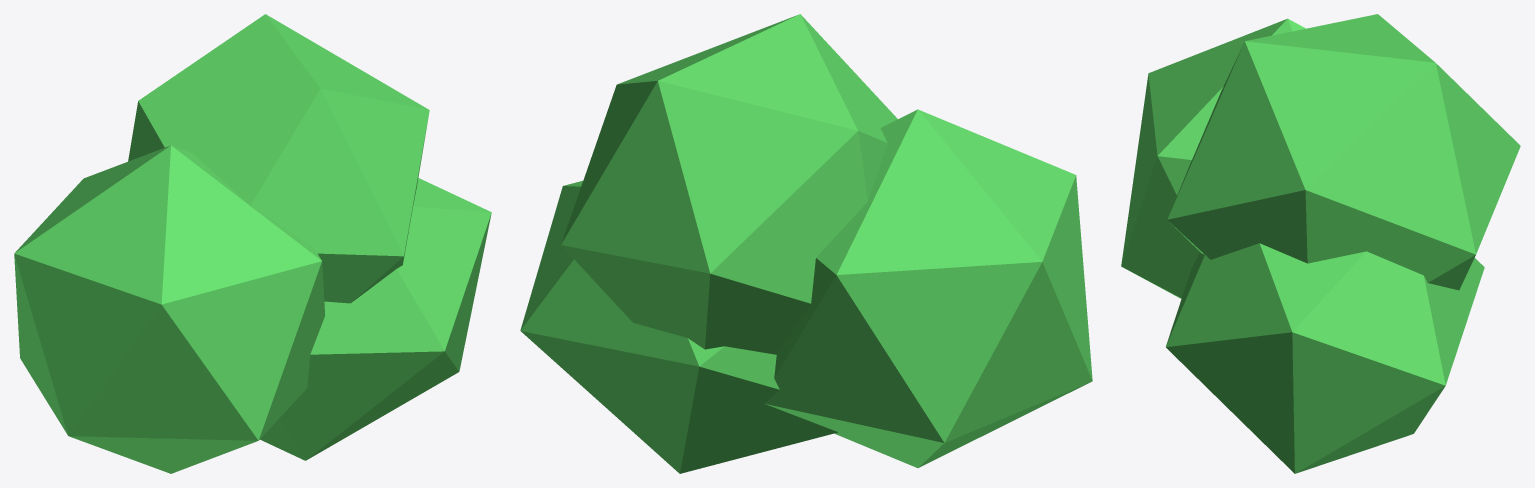
The model's file is krzaczek1.gltf.
3 renders of one model, left to right at view 1: azimuth 30°, elevation 25°; view 2: azimuth 150°, elevation 25°; view 3: azimuth 270°, elevation 25°, orthographic. The views are drawn at different scales.
Visible parts, largest first — view 1: krzaczek1; view 2: krzaczek1; view 3: krzaczek1.
Part boxes in pixels (<box>): krzaczek1: <box>14,14,491,473</box>; krzaczek1: <box>520,14,1092,473</box>; krzaczek1: <box>1121,14,1520,473</box>.
Size of the model in its own units: 2.86 by 2.2 by 2.1.
